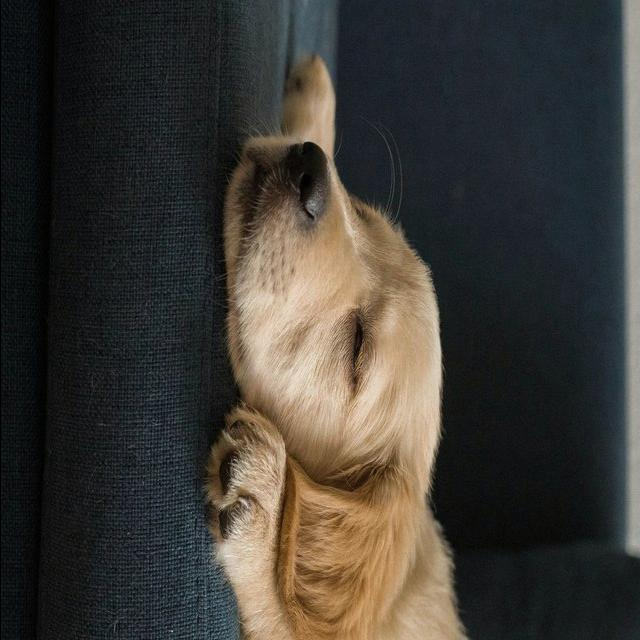retriever: (201, 54, 471, 640)
